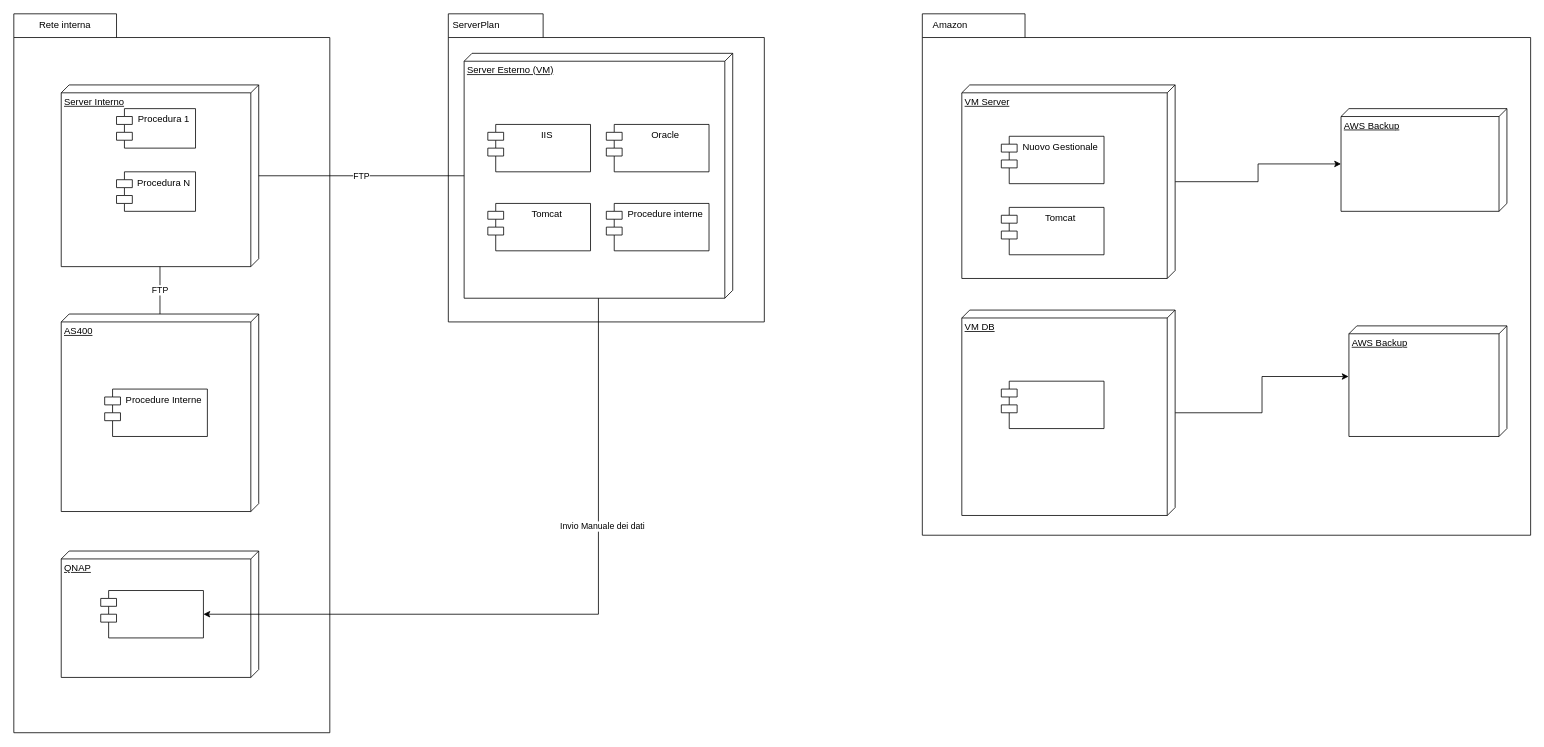
The diagram is 1544 pixels wide and 747 high, and some of its shapes have lost their labels. Each missing label, with the centre of its shape:
Backup Oracle: (x=151, y=614)
Postgres: (x=1052, y=404)
